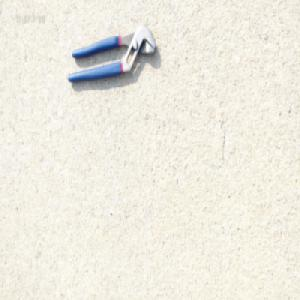Pliers: (67, 23, 157, 84)
